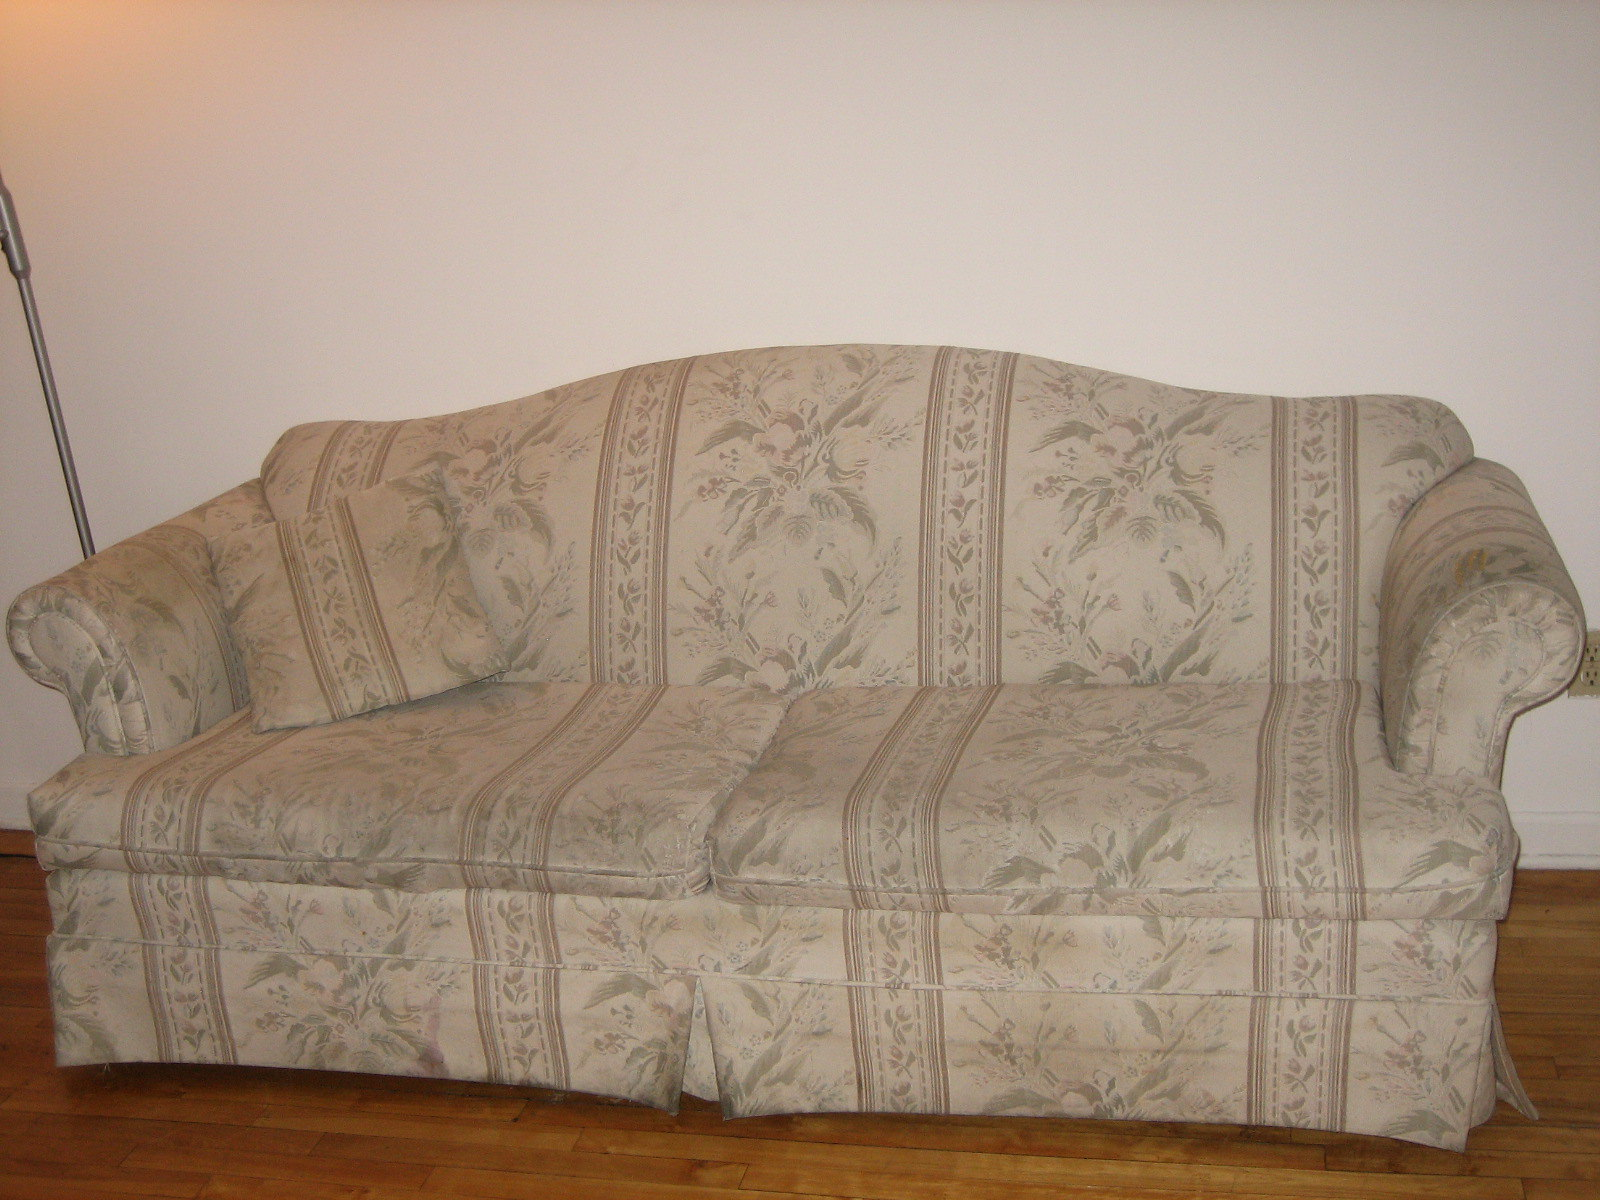sofa: (18, 345, 1562, 1145)
